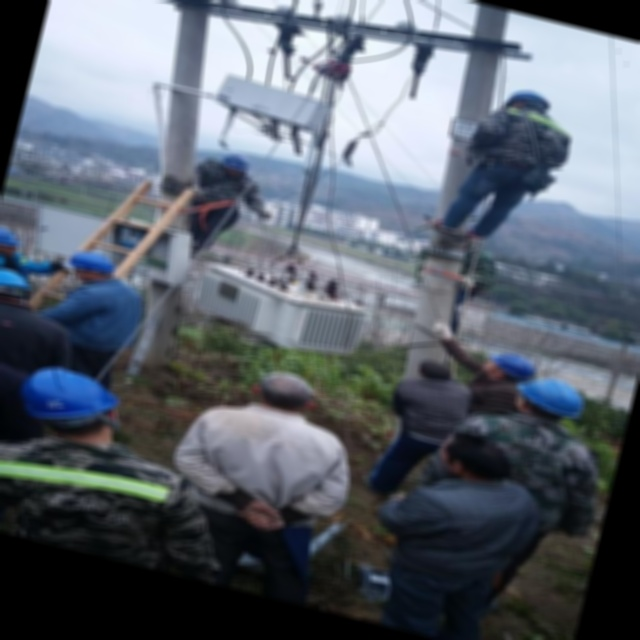Con_Casco: (16, 360, 120, 444)
Sin_Casco_Mascarrilla: (433, 424, 517, 491), (252, 364, 319, 418)
Sin_Chaleco: (178, 397, 341, 536), (389, 468, 544, 602)
